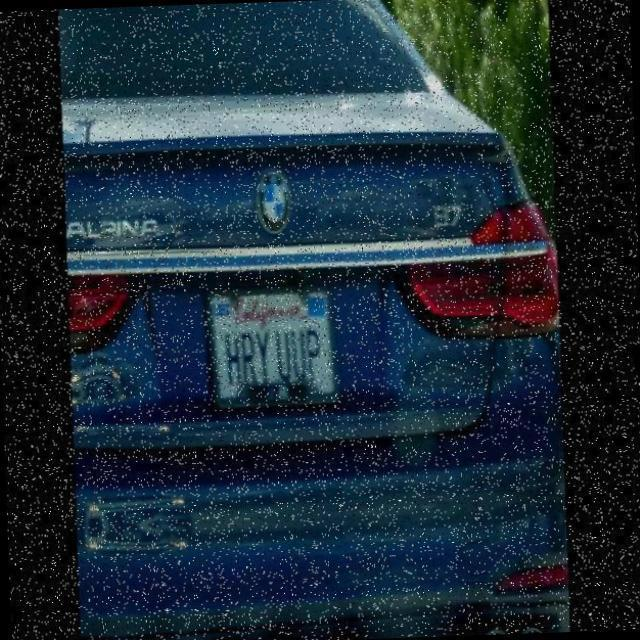License Plate: (210, 289, 338, 406)
